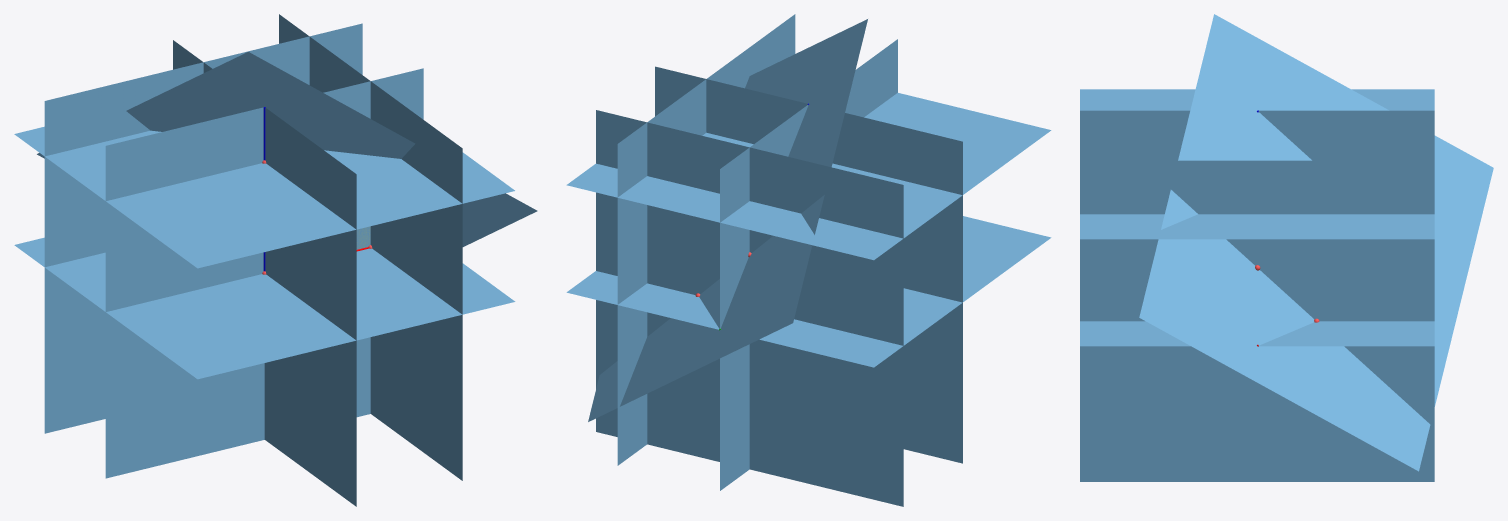
File: halfspacesTest.glb
3 views of the same model, side by side, from view 1: azimuth 30°, elevation 25°; view 2: azimuth 150°, elevation 25°; view 3: azimuth 270°, elevation 25° (orthographic). The views are drawn at different scales.
Visible parts, largest first — view 1: Constraint_3, Constraint_0, Constraint_4, Constraint_5, Constraint_2, Constraint_1, Constraint_6; view 2: Constraint_2, Constraint_3, Constraint_6, Constraint_4, Constraint_0, Constraint_5, Constraint_1; view 3: Constraint_0, Constraint_6, Constraint_1, Constraint_4, Constraint_5.
Part boxes in pixels (left/top/right/bottom): Constraint_3: left=105, top=68, right=423, bottom=478; Constraint_0: left=279, top=14, right=462, bottom=480; Constraint_4: left=14, top=126, right=514, bottom=268; Constraint_5: left=14, top=237, right=515, bottom=379; Constraint_2: left=44, top=23, right=362, bottom=433; Constraint_1: left=173, top=40, right=356, bottom=506; Constraint_6: left=37, top=51, right=537, bottom=246; Constraint_2: left=596, top=110, right=903, bottom=506; Constraint_3: left=655, top=66, right=962, bottom=463; Constraint_6: left=588, top=19, right=867, bottom=421; Constraint_4: left=566, top=93, right=1051, bottom=260; Constraint_0: left=617, top=14, right=795, bottom=465; Constraint_5: left=566, top=216, right=1051, bottom=367; Constraint_1: left=720, top=39, right=897, bottom=490; Constraint_0: left=1080, top=160, right=1434, bottom=481; Constraint_6: left=1139, top=14, right=1493, bottom=471; Constraint_1: left=1080, top=110, right=1434, bottom=160; Constraint_4: left=1080, top=89, right=1434, bottom=239; Constraint_5: left=1080, top=321, right=1434, bottom=346.
Bounding box in the file's own units: 7 × 7.46 × 7.
